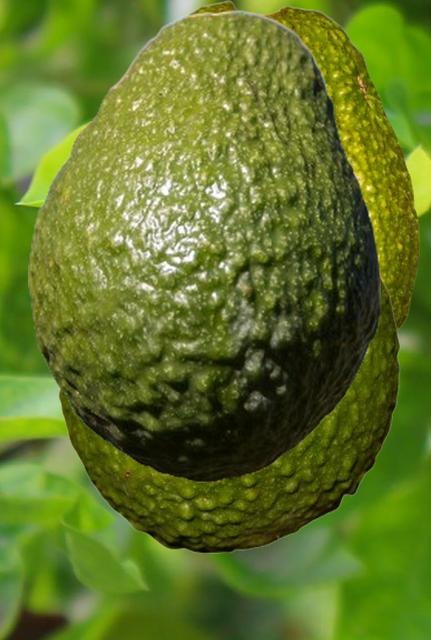avocado: (28, 9, 379, 481), (57, 269, 399, 552), (186, 0, 418, 332)
